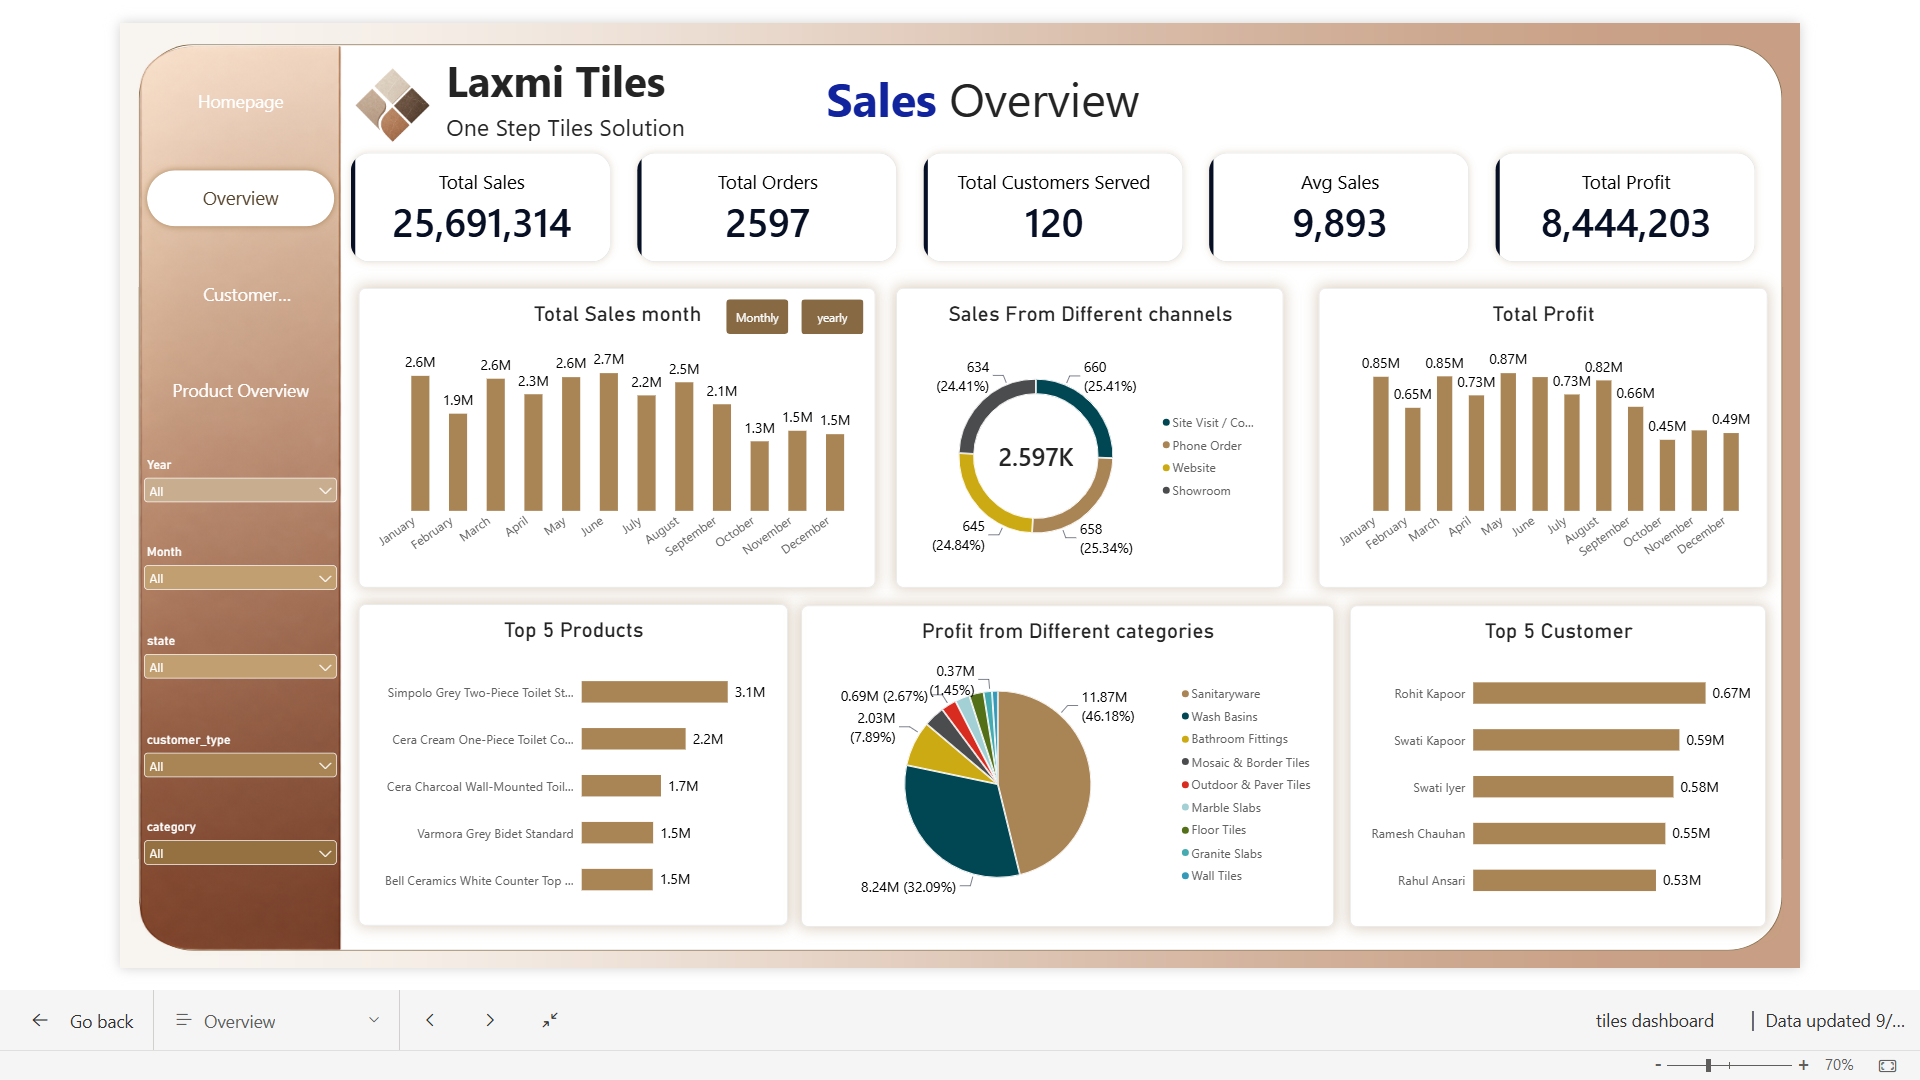

The dashboard page shown, as its layout file describes it:
{"tool":"powerbi","page":{"name":"Overview","canvas":[1920,1080],"ordinal":1},"visuals":[{"type":"shape","box":[21.7,24,1878.4,1036],"z":0},{"type":"image","box":[12.7,19.9,924.7,1046],"z":1000},{"type":"cardVisual","fields":{"Data":["Sum(cleaned_sales.net_amount)","CountNonNull(cleaned_sales.order_id)","Count(cleaned_sales.customer_id)","Avg(cleaned_sales.net_amount)","Sum(cleaned_sales.profit)"]},"box":[252.5,137.5,1630,147.5],"z":2000},{"type":"columnChart","title":"Total Sales month","fields":{"Category":["cleaned_sales.order_date.Variation.Date Hierarchy.Month"],"Y":["Sum(cleaned_sales.net_amount)"]},"box":[272.5,302.5,590,342.5],"z":3000},{"type":"pieChart","title":"Profit  from Different  categories","fields":{"Category":["cleaned_products.category"],"Y":["Sum(cleaned_sales.net_amount)"]},"box":[778.8,666.1,608.7,366.9],"z":4000},{"type":"donutChart","title":"Sales From Different channels","fields":{"Category":["cleaned_sales.order_channel"],"Y":["CountNonNull(cleaned_sales.order_id)"]},"box":[887.5,302.5,442.5,342.5],"z":5000},{"type":"barChart","title":"Top 5 Products","fields":{"Category":["cleaned_products.product_name"],"Y":["Sum(cleaned_sales.net_amount)"]},"box":[272.5,665,490,367.5],"z":6000},{"type":"barChart","title":"Top 5 Customer","fields":{"Category":["cleaned_customers.customer_name"],"Y":["Sum(cleaned_sales.net_amount)"]},"box":[1406,666.1,475.5,366.9],"z":7000},{"type":"slicer","fields":{"Values":["cleaned_sales.order_date.Variation.Date Hierarchy.Year"]},"box":[22.5,495,230,90],"z":8000},{"type":"slicer","fields":{"Values":["cleaned_sales.order_date.Variation.Date Hierarchy.Month"]},"box":[22.5,596.4,229.5,69.7],"z":9000},{"type":"slicer","fields":{"Values":["cleaned_customers.state"]},"box":[22.5,696.8,229.5,73.8],"z":10000},{"type":"slicer","fields":{"Values":["cleaned_customers.customer_type"]},"box":[22.5,809.6,229.5,84],"z":11000},{"type":"slicer","fields":{"Values":["cleaned_products.category"]},"box":[22.5,910,229.5,82],"z":12000},{"type":"clusteredColumnChart","title":"Total Profit","fields":{"Category":["cleaned_sales.order_date.Variation.Date Hierarchy.Month"],"Y":["Sum(cleaned_sales.profit)"]},"box":[1370,302.5,512.5,342.5],"z":13000},{"type":"textbox","box":[807.5,50,435,87.5],"z":14000},{"type":"pageNavigator","box":[22.5,50,230,412.5],"z":15000},{"type":"textbox","box":[372.5,32.5,290,67.5],"z":16000},{"type":"textbox","box":[372.5,100,435,77.5],"z":17000},{"type":"image","box":[235,32.5,152.5,125],"z":18000},{"type":"actionButton","title":"Monthly","box":[692.5,315,71,39.7],"z":20000},{"type":"actionButton","title":"yearly","box":[778.8,315,71.2,40],"z":21000}]}

Visuals, with their boxes on the page's 1920x1080 design canvas (x1, y1, x2, y2). These are canvas units, not pixel positions in the 1920x1080 screenshot, which may show the page scaled, cropped or inside an application window:
shape: 22:24:1900:1060
image: 13:20:937:1066
cardVisual - Sum(cleaned_sales.net_amount) x CountNonNull(cleaned_sales.order_id): 252:138:1882:285
"Total Sales month" columnChart: 272:302:862:645
"Profit  from Different  categories" pieChart: 779:666:1388:1033
"Sales From Different channels" donutChart: 888:302:1330:645
"Top 5 Products" barChart: 272:665:762:1032
"Top 5 Customer" barChart: 1406:666:1882:1033
slicer - cleaned_sales.order_date.Variation.Date Hierarchy.Year: 22:495:252:585
slicer - cleaned_sales.order_date.Variation.Date Hierarchy.Month: 22:596:252:666
slicer - cleaned_customers.state: 22:697:252:771
slicer - cleaned_customers.customer_type: 22:810:252:894
slicer - cleaned_products.category: 22:910:252:992
"Total Profit" clusteredColumnChart: 1370:302:1882:645
textbox: 808:50:1242:138
pageNavigator: 22:50:252:462
textbox: 372:32:662:100
textbox: 372:100:808:178
image: 235:32:388:158
"Monthly" actionButton: 692:315:764:355
"yearly" actionButton: 779:315:850:355
